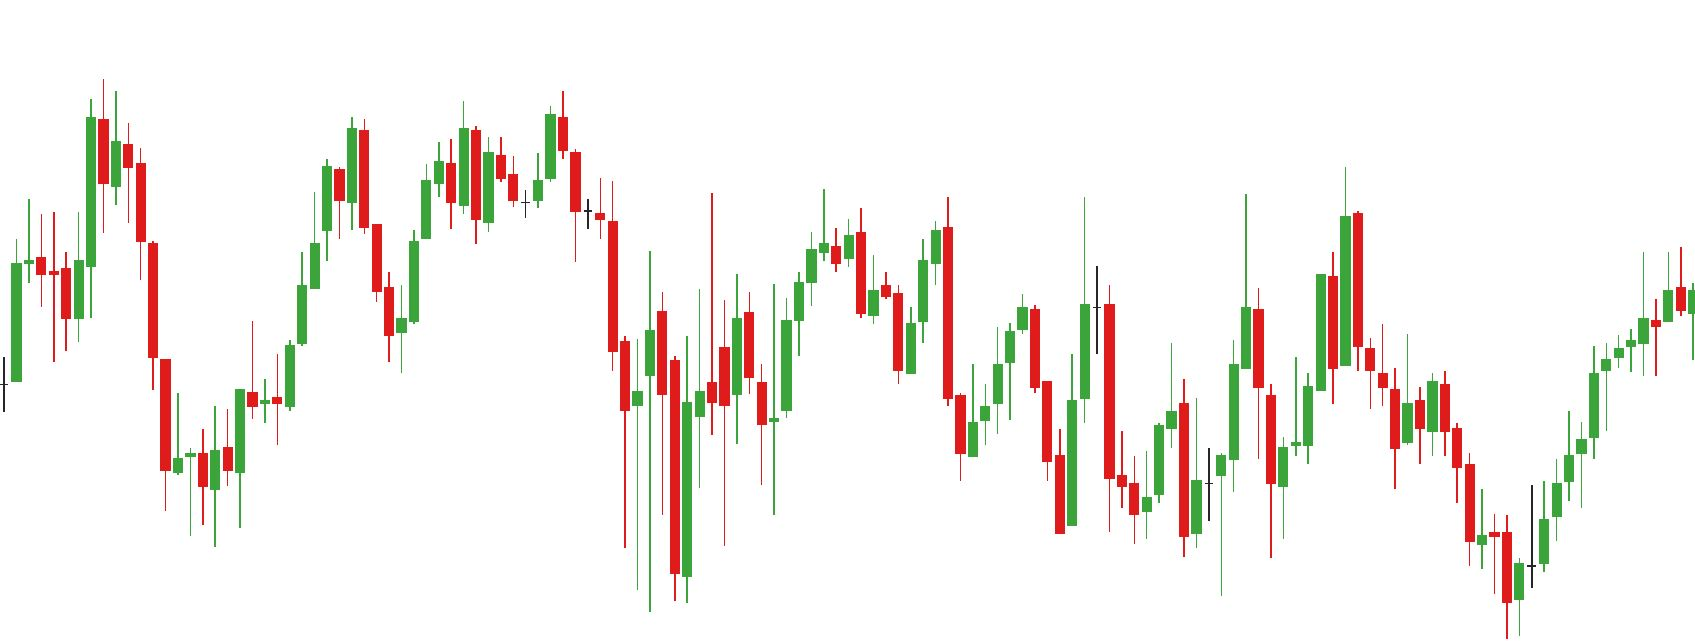buy: (197, 260, 642, 608), (955, 366, 1081, 535)
sell: (1238, 166, 1365, 339), (457, 90, 568, 196)
